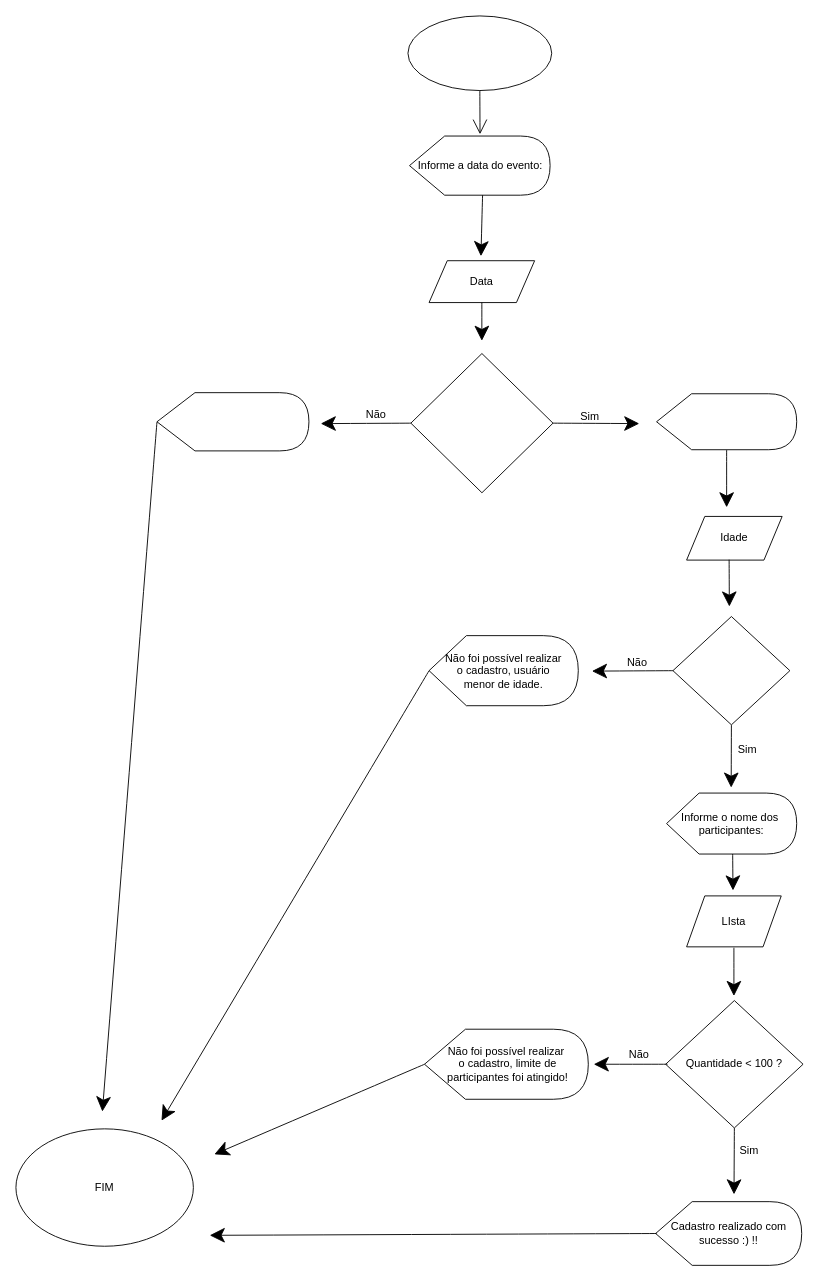
The diagram is 819 pixels wide and 1281 high, and some of its shapes have lost their labels. Here are the shapes that lost their labels. From the top down, the box of each, then its label:
(407, 15, 552, 91): INICIO
(156, 392, 309, 451): Cadastro não autorizado, data do evento inválida
(410, 353, 553, 493): A data do evento é posterior a atual?
(656, 393, 797, 450): Informe sua idade:
(672, 616, 790, 725): Idade >= 18?
